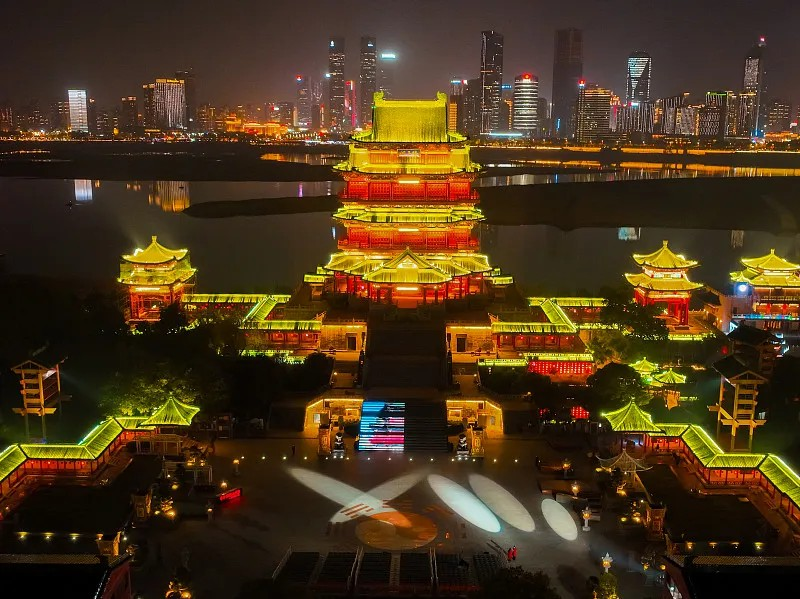Teng: (302, 87, 512, 308)
